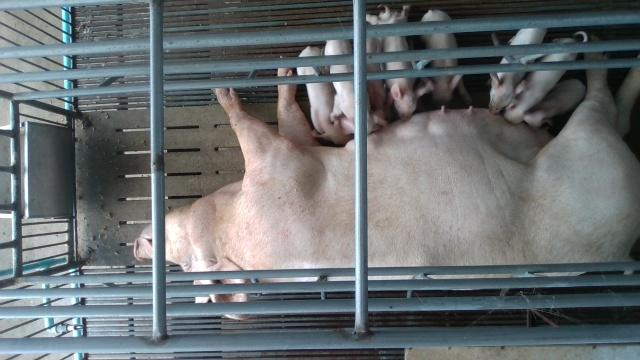piglet: (504, 30, 589, 124), (368, 4, 425, 122), (296, 44, 352, 145), (325, 39, 382, 135), (488, 26, 547, 112), (422, 8, 472, 107), (528, 78, 587, 129)
sow-sleep-lactate: (134, 55, 640, 320)
